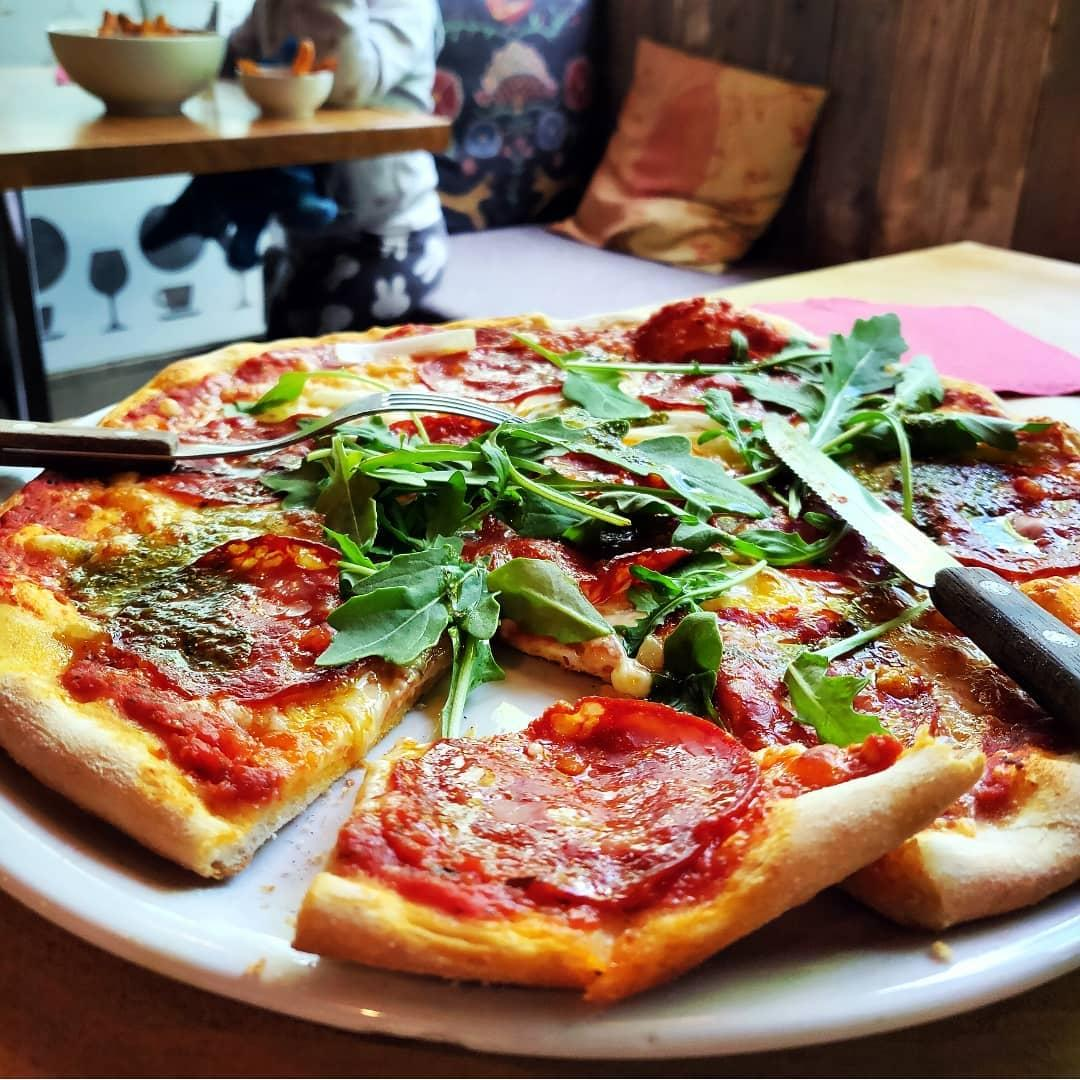Arugula: (269, 403, 528, 755), (763, 315, 1052, 544), (483, 322, 773, 547), (771, 593, 940, 754), (228, 356, 418, 435)
Pepperoni: (386, 689, 766, 914), (684, 599, 1032, 814), (93, 531, 370, 706), (620, 295, 801, 420), (453, 528, 699, 608), (892, 485, 1080, 585), (120, 417, 319, 508), (401, 339, 582, 397), (371, 400, 503, 447)
Pizza: (0, 310, 1080, 1012)
